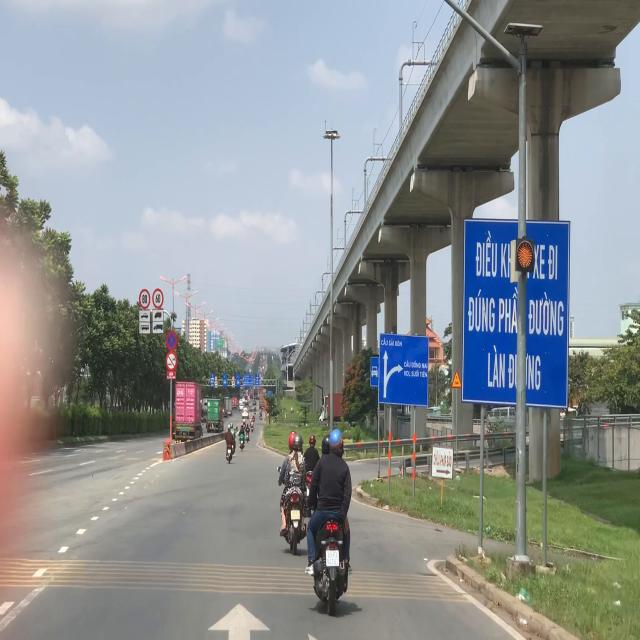Cam con lai: (166, 353, 178, 372)
Cam dung va do: (165, 329, 178, 351)
Toc do toi da: (139, 287, 151, 309), (152, 287, 164, 308)
